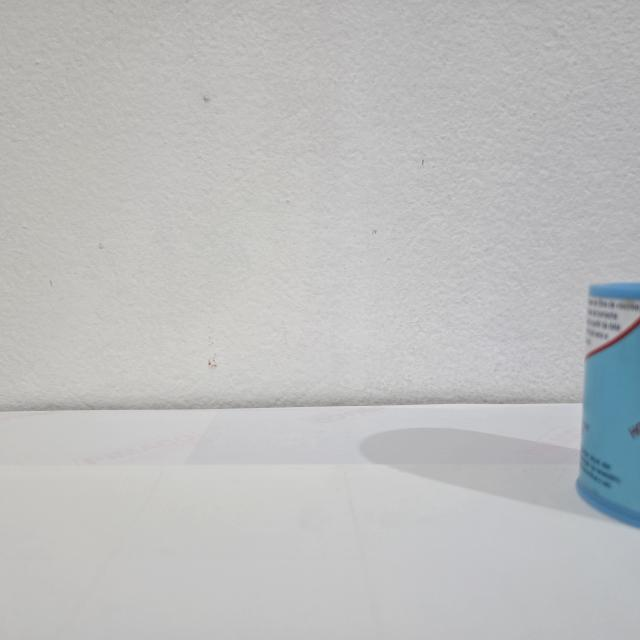procitex: (572, 274, 640, 532)
